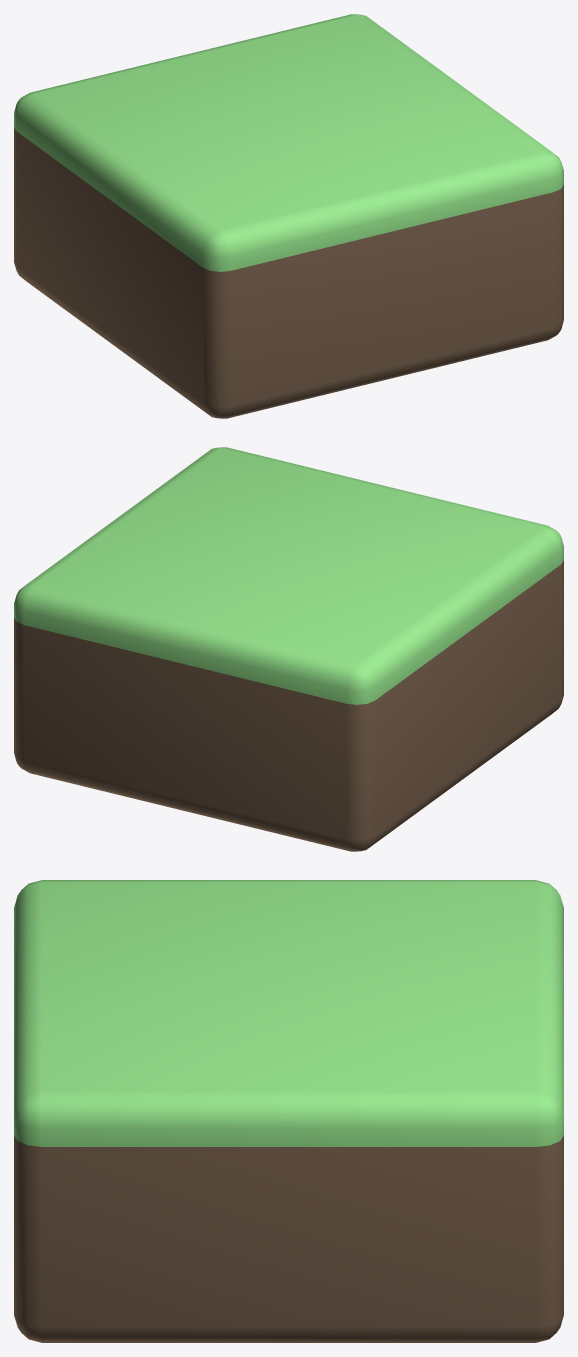
The model's file is Tile 1.fbx.
3 views of the same model, one above another, from view 1: azimuth 30°, elevation 25°; view 2: azimuth 150°, elevation 25°; view 3: azimuth 270°, elevation 25° (orthographic). The views are drawn at different scales.
Parts seen in each view (by area): view 1: Cube; view 2: Cube; view 3: Cube.
Part boxes in pixels (<box>): Cube: <box>14,14,563,418</box>; Cube: <box>14,447,563,851</box>; Cube: <box>14,880,563,1342</box>.
Size of the model in its own units: 2 by 0.9992 by 2.
